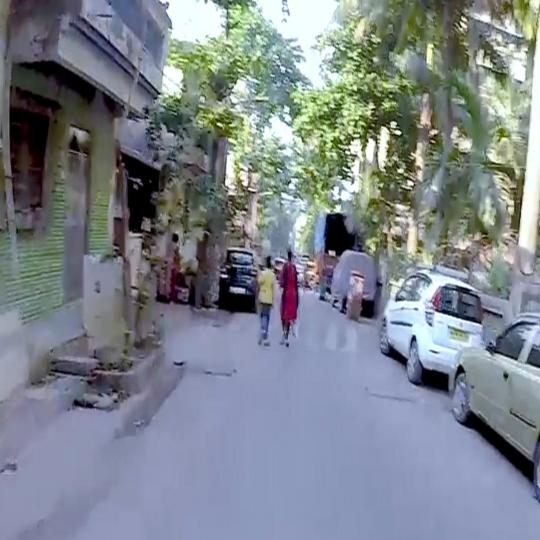Speed Bump: (193, 351, 396, 395)
